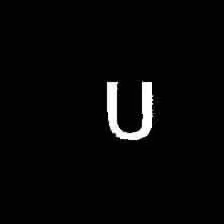LTR_U: (99, 71, 161, 146)
